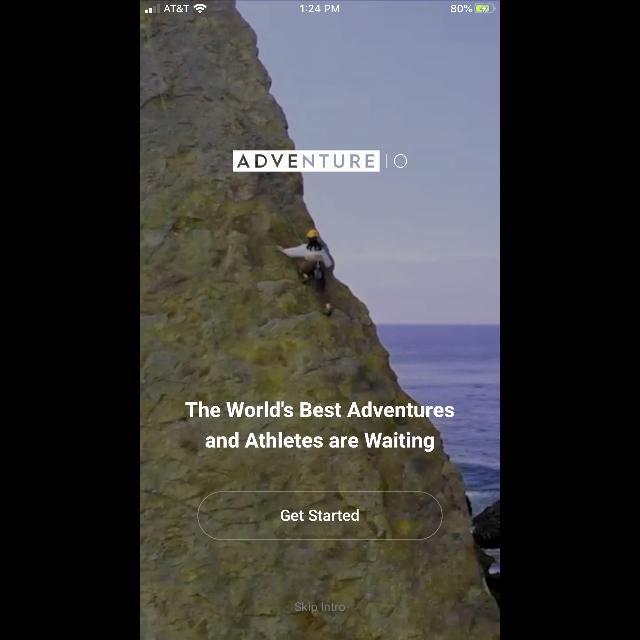backgroundimage: (140, 1, 500, 640)
image: (233, 150, 407, 172)
text: (186, 402, 454, 452), (295, 602, 345, 614)
textbutton: (198, 492, 442, 540)
uppertaskbar: (140, 0, 500, 14)
